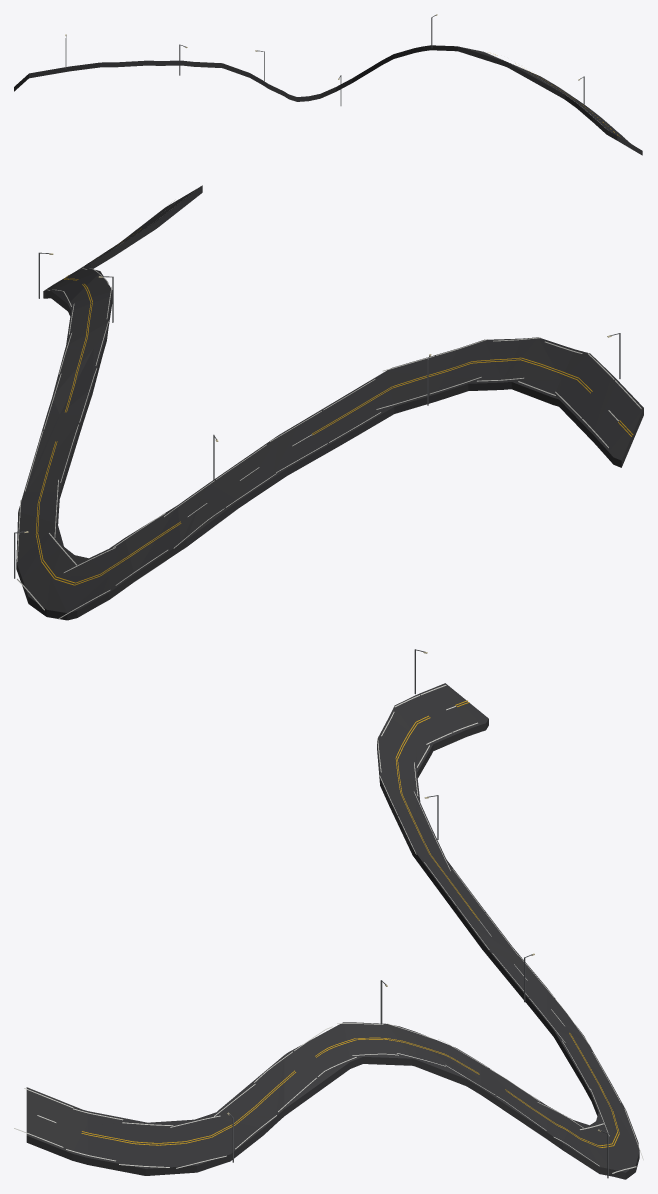
The picture shows the model from 3 angles, top to bottom: view 1: azimuth 30°, elevation 25°; view 2: azimuth 150°, elevation 25°; view 3: azimuth 270°, elevation 25°; orthographic projection. The views are drawn at different scales.
Bounding box in the file's own units: 123 × 51.22 × 96.02.
